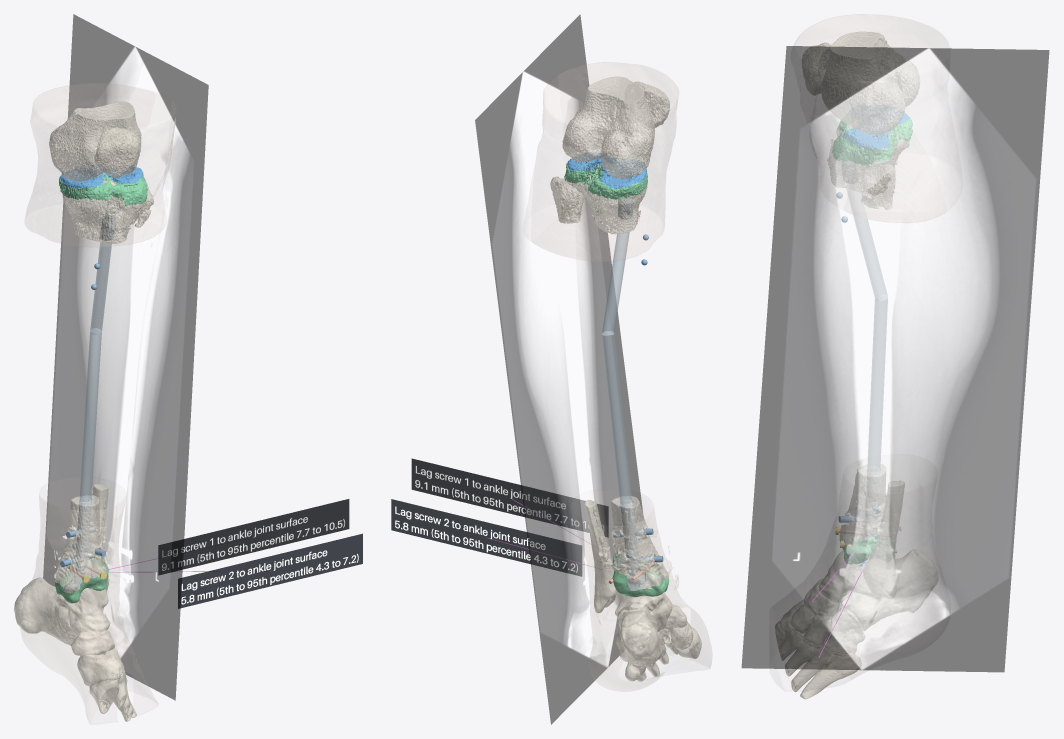
The model's file is 2022-03-24_091258_lat.glb.
The picture shows the model from 3 angles, left to right: view 1: azimuth 30°, elevation 25°; view 2: azimuth 150°, elevation 25°; view 3: azimuth 270°, elevation 25°; orthographic projection. The views are drawn at different scales.
Parts seen in each view (by area): view 1: radiograph, skin, tarsal, tibia, implant_8, implant_16, femur, nail_modelled, patella, capsule_band_knee, metatarsal, nail (+3 smaller); view 2: radiograph, skin, femur, implant_17, implant_9, tibia, tarsal, nail_modelled, fibula, articular_surface_knee, metatarsal, capsule_band_knee (+3 smaller); view 3: radiograph, tarsal, femur, skin, fibula, tibia, nail_modelled, metatarsal, capsule_band_knee, patella, articular_surface_knee, nail (+1 smaller).
Part boxes in pixels (box(x1,y1,x2,y2)): radiograph: box(43, 14, 208, 700); skin: box(21, 83, 175, 722); tarsal: box(14, 577, 124, 686); tibia: box(55, 176, 145, 603); implant_8: box(158, 499, 349, 575); implant_16: box(178, 533, 362, 608); femur: box(49, 101, 141, 180); nail_modelled: box(79, 242, 111, 502); patella: box(94, 127, 141, 178); capsule_band_knee: box(59, 168, 147, 205); metatarsal: box(89, 670, 136, 721); nail: box(75, 212, 115, 574); radiograph: box(475, 14, 642, 724); skin: box(532, 62, 711, 691); femur: box(562, 76, 654, 179); implant_17: box(391, 499, 581, 576); implant_9: box(411, 458, 608, 537); tibia: box(564, 164, 668, 596); tarsal: box(615, 574, 693, 666); nail_modelled: box(602, 232, 632, 504); fibula: box(550, 176, 617, 613); articular_surface_knee: box(566, 152, 646, 188); metatarsal: box(625, 624, 701, 681); capsule_band_knee: box(564, 158, 647, 199); radiograph: box(741, 46, 1049, 672); tarsal: box(780, 549, 938, 653); femur: box(820, 31, 919, 135); skin: box(794, 14, 949, 680); fibula: box(861, 164, 904, 598); tibia: box(827, 125, 910, 564); nail_modelled: box(847, 189, 887, 471); metatarsal: box(775, 621, 861, 699); capsule_band_knee: box(832, 118, 912, 165); patella: box(802, 42, 830, 95); articular_surface_knee: box(843, 112, 909, 148); nail: box(842, 161, 879, 539).
Size of the model in its own units: 0.2926 by 0.5743 by 0.2329.
Materials: 15 (3 with a texture image).
